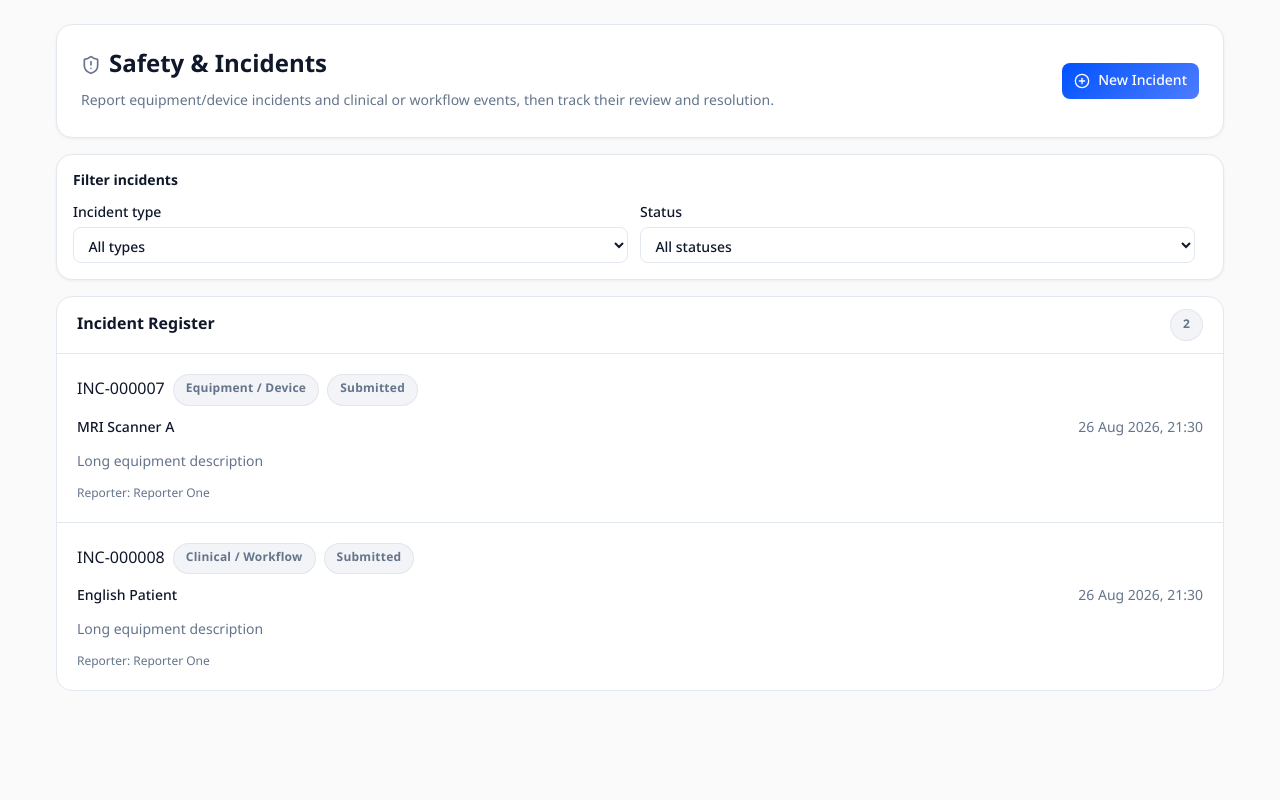
Test: IncidentsPage › requires a conscious Equipment condition selection
Click the button "New Incident". click: [1131, 81]
box: top-left (1062, 63), bottom-right (1199, 99)
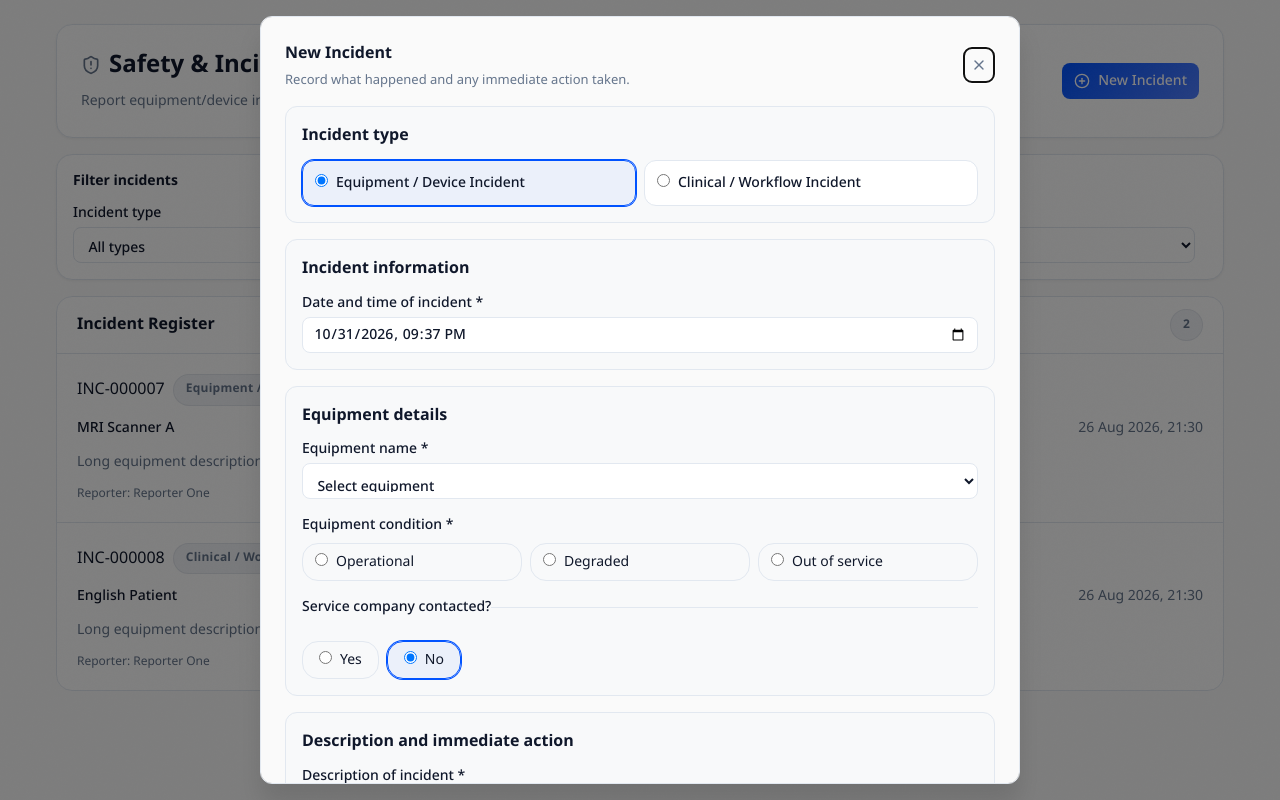
Result: the radio button labelled "Operational" is not checked at top-left (315, 553), bottom-right (328, 566)
Result: the radio button labelled "Degraded" is not checked at top-left (543, 553), bottom-right (556, 566)
Result: the radio button labelled "Out of service" is not checked at top-left (771, 553), bottom-right (784, 566)
